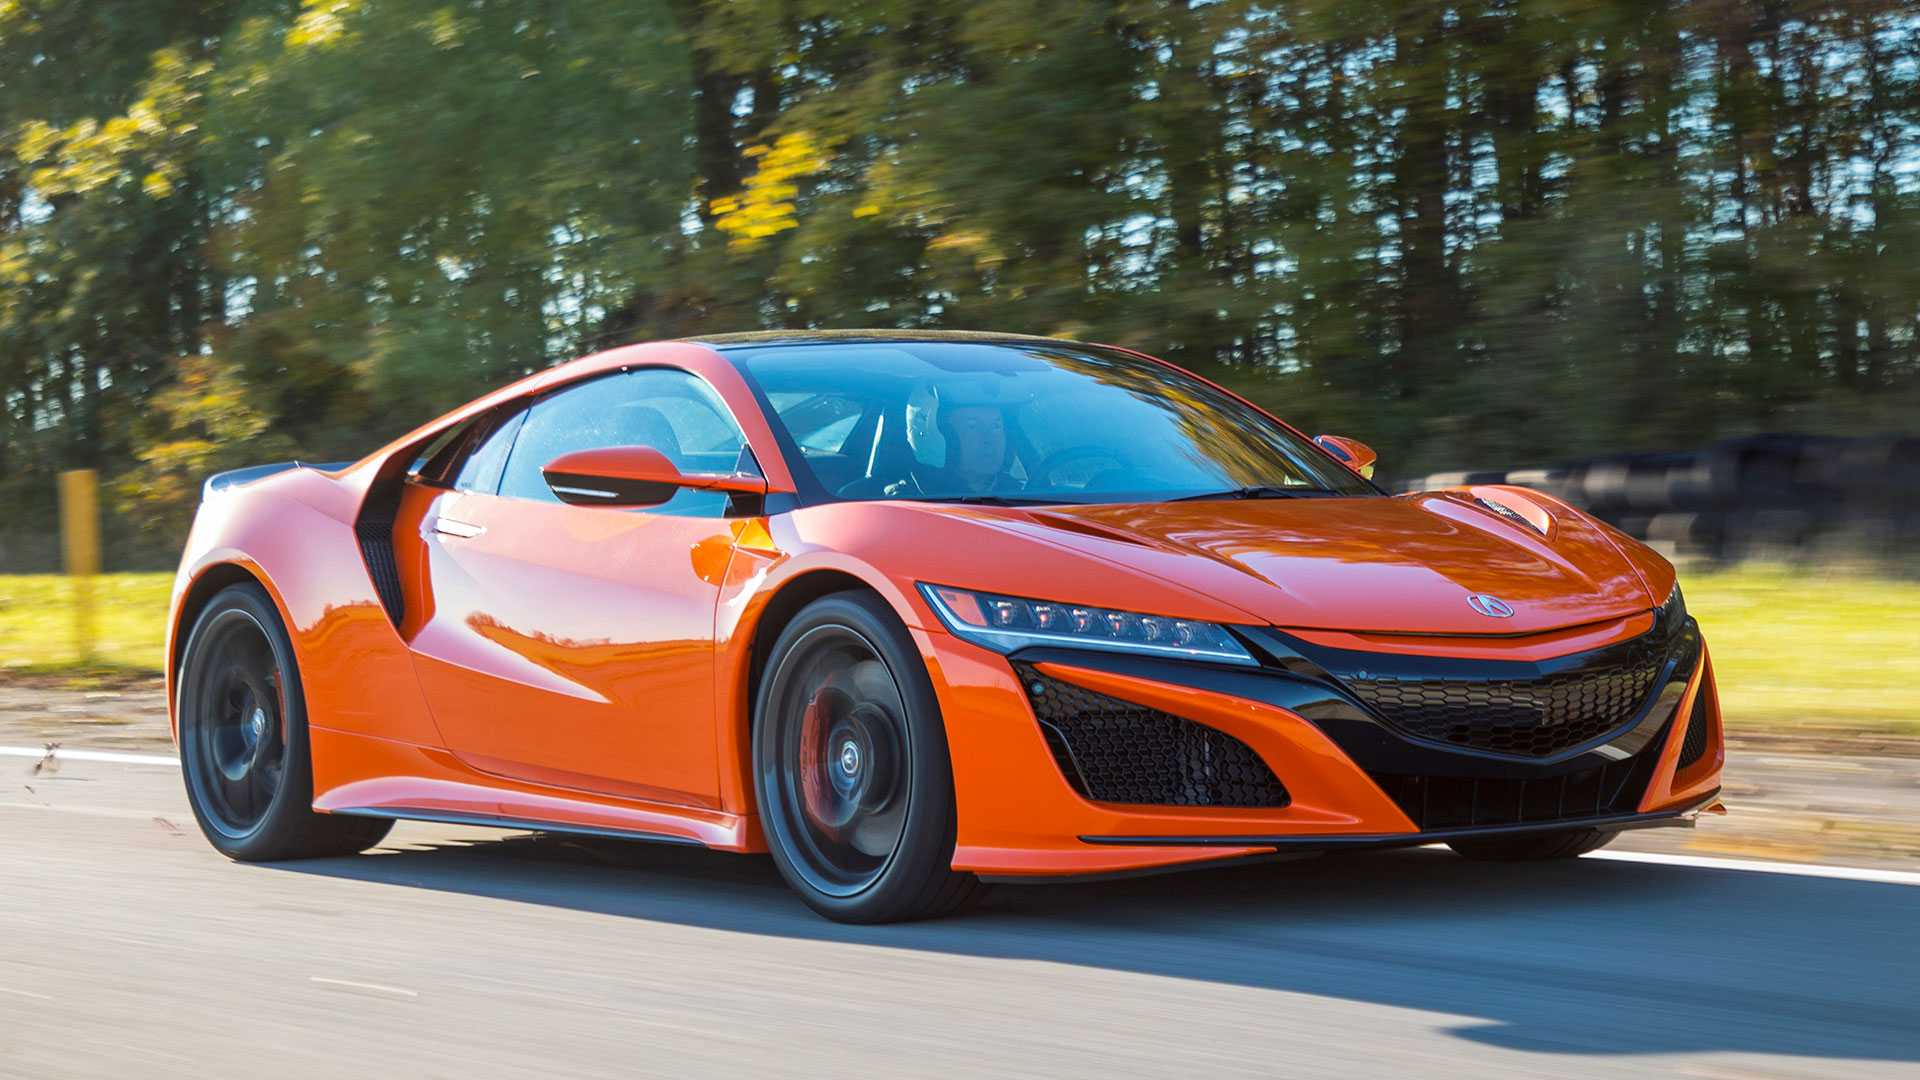Acura NSX 2019: (165, 328, 1727, 928)
